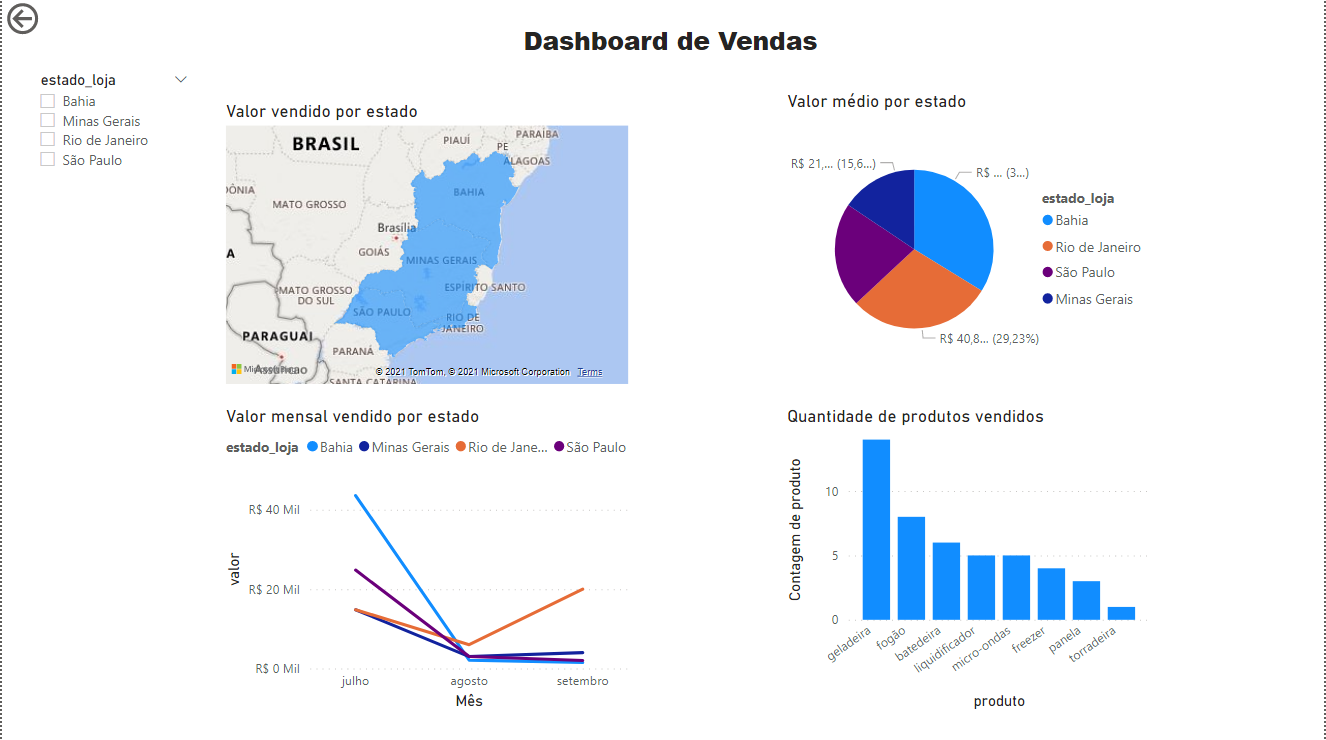

What the dashboard file says about the page in this screenshot:
{"tool":"powerbi","page":{"name":"Exercício 2","canvas":[1280,720],"ordinal":1},"visuals":[{"type":"filledMap","title":"Valor vendido por estado","fields":{"Category":["exercicio2.estado_loja"]},"box":[211.8,99.3,399.8,279.3],"z":0},{"type":"pieChart","title":"Valor médio por estado","fields":{"Category":["exercicio2.estado_loja"],"Y":["Sum(exercicio2. valor)"]},"box":[754.5,90,361.4,288.6],"z":1},{"type":"clusteredColumnChart","title":"Quantidade de produtos vendidos","fields":{"Category":["exercicio2. produto"],"Y":["CountNonNull(exercicio2. produto)"]},"box":[754.5,394.5,361.4,299.2],"z":2},{"type":"lineChart","title":"Valor mensal vendido por estado","fields":{"Y":["Sum(exercicio2. valor)"],"Category":["exercicio2.data.Variation.Hierarquia de datas.Mês"],"Series":["exercicio2.estado_loja"]},"box":[211.8,394.5,399.8,299.2],"z":3},{"type":"slicer","fields":{"Values":["exercicio2.estado_loja"]},"box":[23.8,64.9,168.1,115.2],"z":4},{"type":"actionButton","box":[0,0,100,40],"z":5},{"type":"textbox","box":[385.2,19.9,524.2,58.2],"z":6}]}

Visuals, with their boxes in screenshot pixels (x1, y1, x2, y2), scaled from the page's 1280x720 canvas onto the 1326x740 screenshot:
"Valor vendido por estado" filledMap: [219, 102, 634, 389]
"Valor médio por estado" pieChart: [782, 92, 1156, 389]
"Quantidade de produtos vendidos" clusteredColumnChart: [782, 405, 1156, 713]
"Valor mensal vendido por estado" lineChart: [219, 405, 634, 713]
slicer - exercicio2.estado_loja: [25, 67, 199, 185]
actionButton: [0, 0, 104, 41]
textbox: [399, 20, 942, 80]
